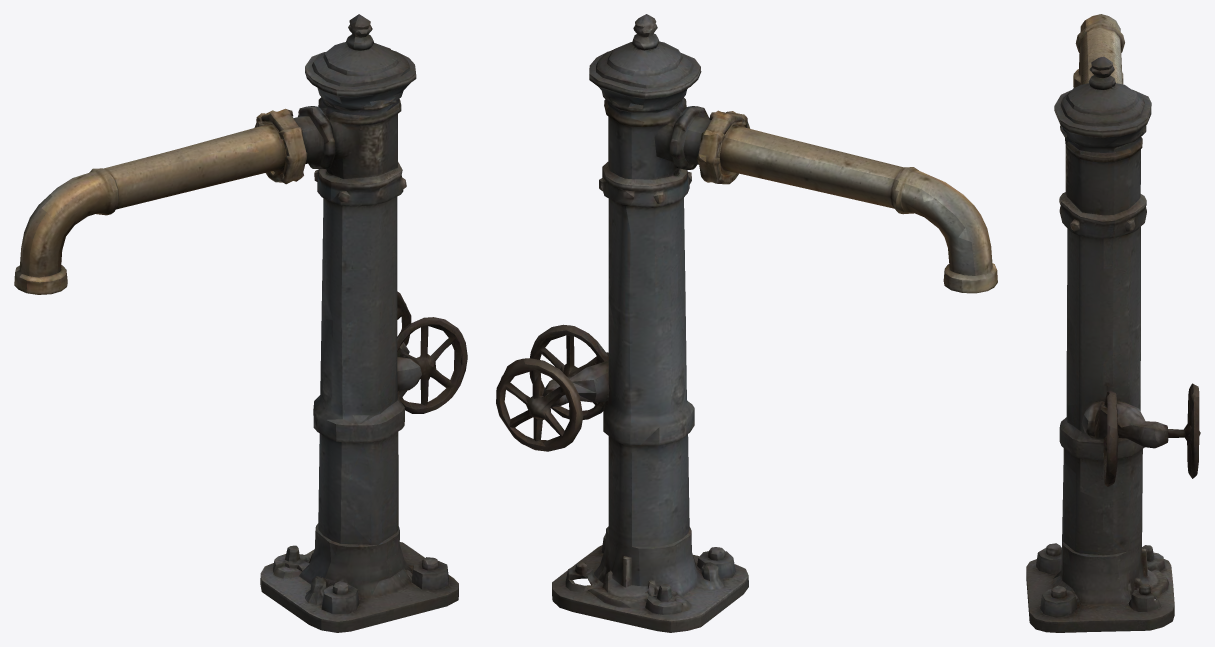
3 renders of one model, left to right at view 1: azimuth 30°, elevation 25°; view 2: azimuth 150°, elevation 25°; view 3: azimuth 270°, elevation 25°, orthographic. The views are drawn at different scales.
Parts seen in each view (by area): view 1: Mindflower_V15_water_crane_baked; view 2: Mindflower_V15_water_crane_baked; view 3: Mindflower_V15_water_crane_baked.
Boxes of the visible parts, x1,y1,x2,y2 form: Mindflower_V15_water_crane_baked: (14,14,467,632); Mindflower_V15_water_crane_baked: (496,14,997,632); Mindflower_V15_water_crane_baked: (1026,14,1200,632).
Bounding box in the file's own units: 0.8022 × 0.9692 × 0.2819.
1 material, 1 textured.
